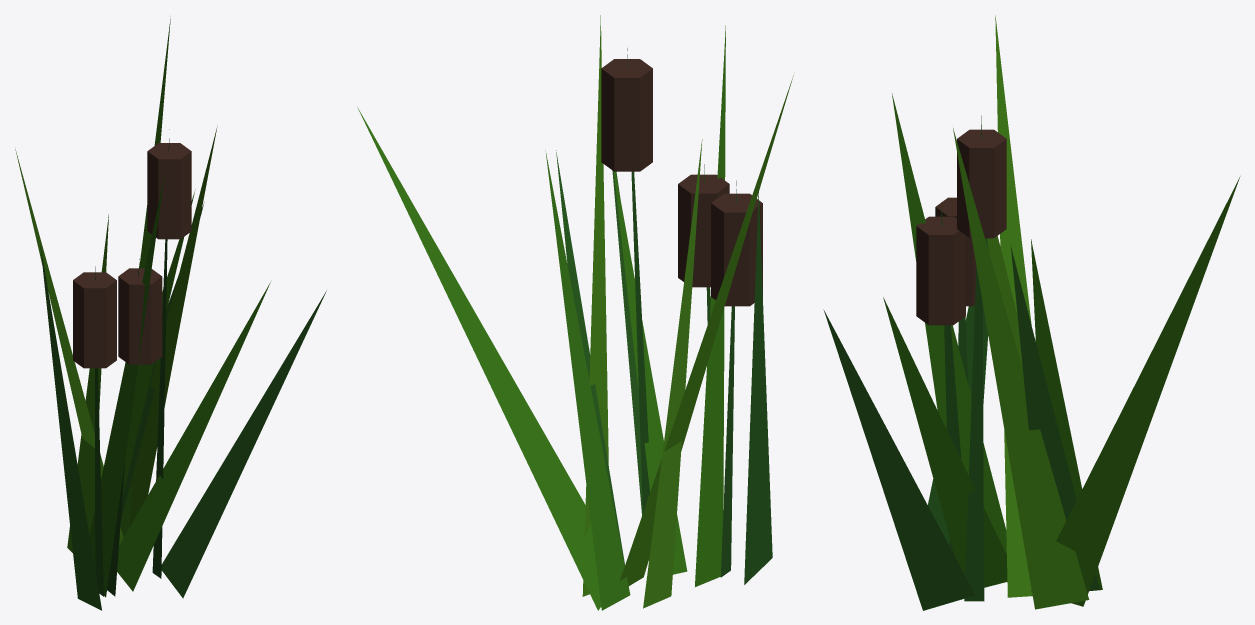
The model's file is reeds_a.gltf.
3 renders of one model, left to right at view 1: azimuth 30°, elevation 25°; view 2: azimuth 150°, elevation 25°; view 3: azimuth 270°, elevation 25°, orthographic. The views are drawn at different scales.
Visible parts, largest first — view 1: reeds_a; view 2: reeds_a; view 3: reeds_a.
Boxes of the visible parts, bbox=[...] form: reeds_a: bbox=[15, 16, 326, 610]; reeds_a: bbox=[357, 15, 793, 610]; reeds_a: bbox=[823, 15, 1240, 610].
Size of the model in its own units: 0.6246 by 1.04 by 0.7552.
